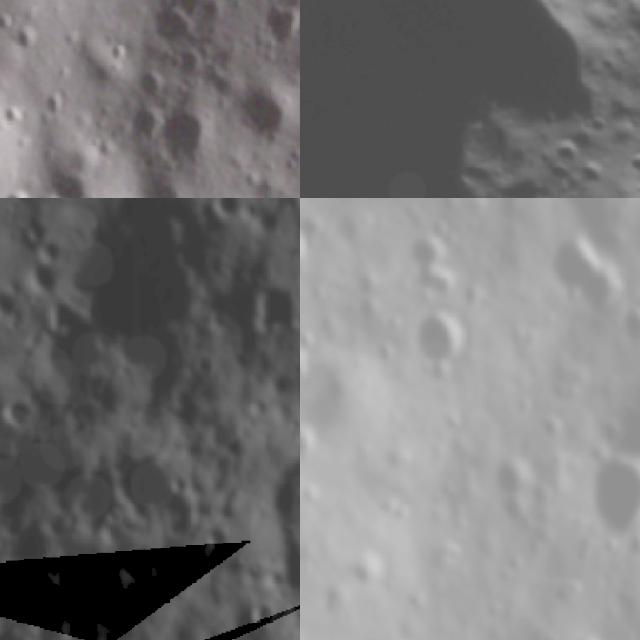crater: (107, 448, 206, 545), (546, 229, 624, 314), (585, 448, 640, 548), (151, 107, 220, 183), (402, 306, 474, 378), (396, 223, 460, 303), (230, 82, 299, 149), (242, 268, 300, 339), (342, 548, 388, 601), (489, 450, 536, 499), (20, 250, 61, 299), (0, 278, 33, 329), (544, 130, 585, 171), (0, 385, 36, 431), (202, 514, 239, 558), (244, 592, 282, 634), (612, 300, 640, 354), (571, 156, 609, 194), (300, 423, 321, 471), (21, 178, 70, 198), (350, 266, 378, 301), (15, 570, 46, 600), (368, 336, 397, 368), (210, 198, 249, 221), (568, 630, 607, 640)
